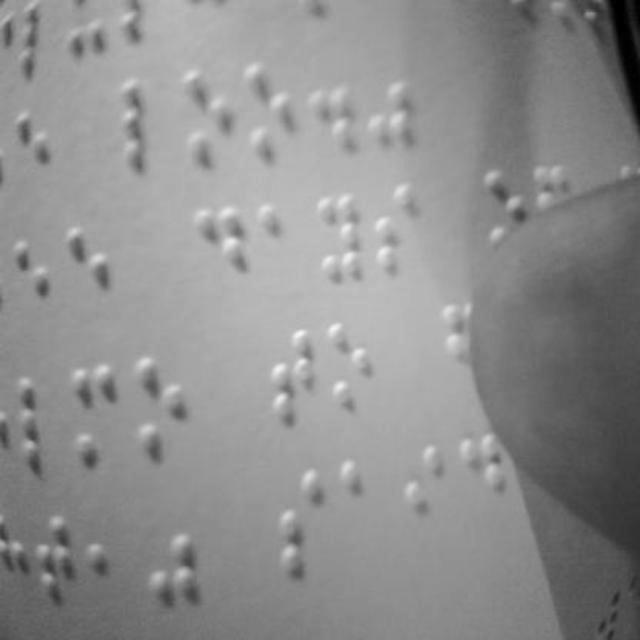braiile: (65, 218, 131, 346), (135, 348, 199, 468), (71, 356, 137, 468), (274, 464, 336, 580), (14, 360, 74, 478), (25, 511, 81, 632), (9, 227, 67, 343), (188, 199, 248, 311), (312, 182, 370, 294), (338, 454, 394, 570), (327, 316, 387, 422), (114, 74, 174, 178), (148, 526, 202, 640), (8, 100, 62, 214), (266, 322, 324, 428), (85, 500, 138, 616), (256, 192, 310, 302), (374, 178, 426, 292), (244, 59, 300, 163), (180, 68, 238, 168)
